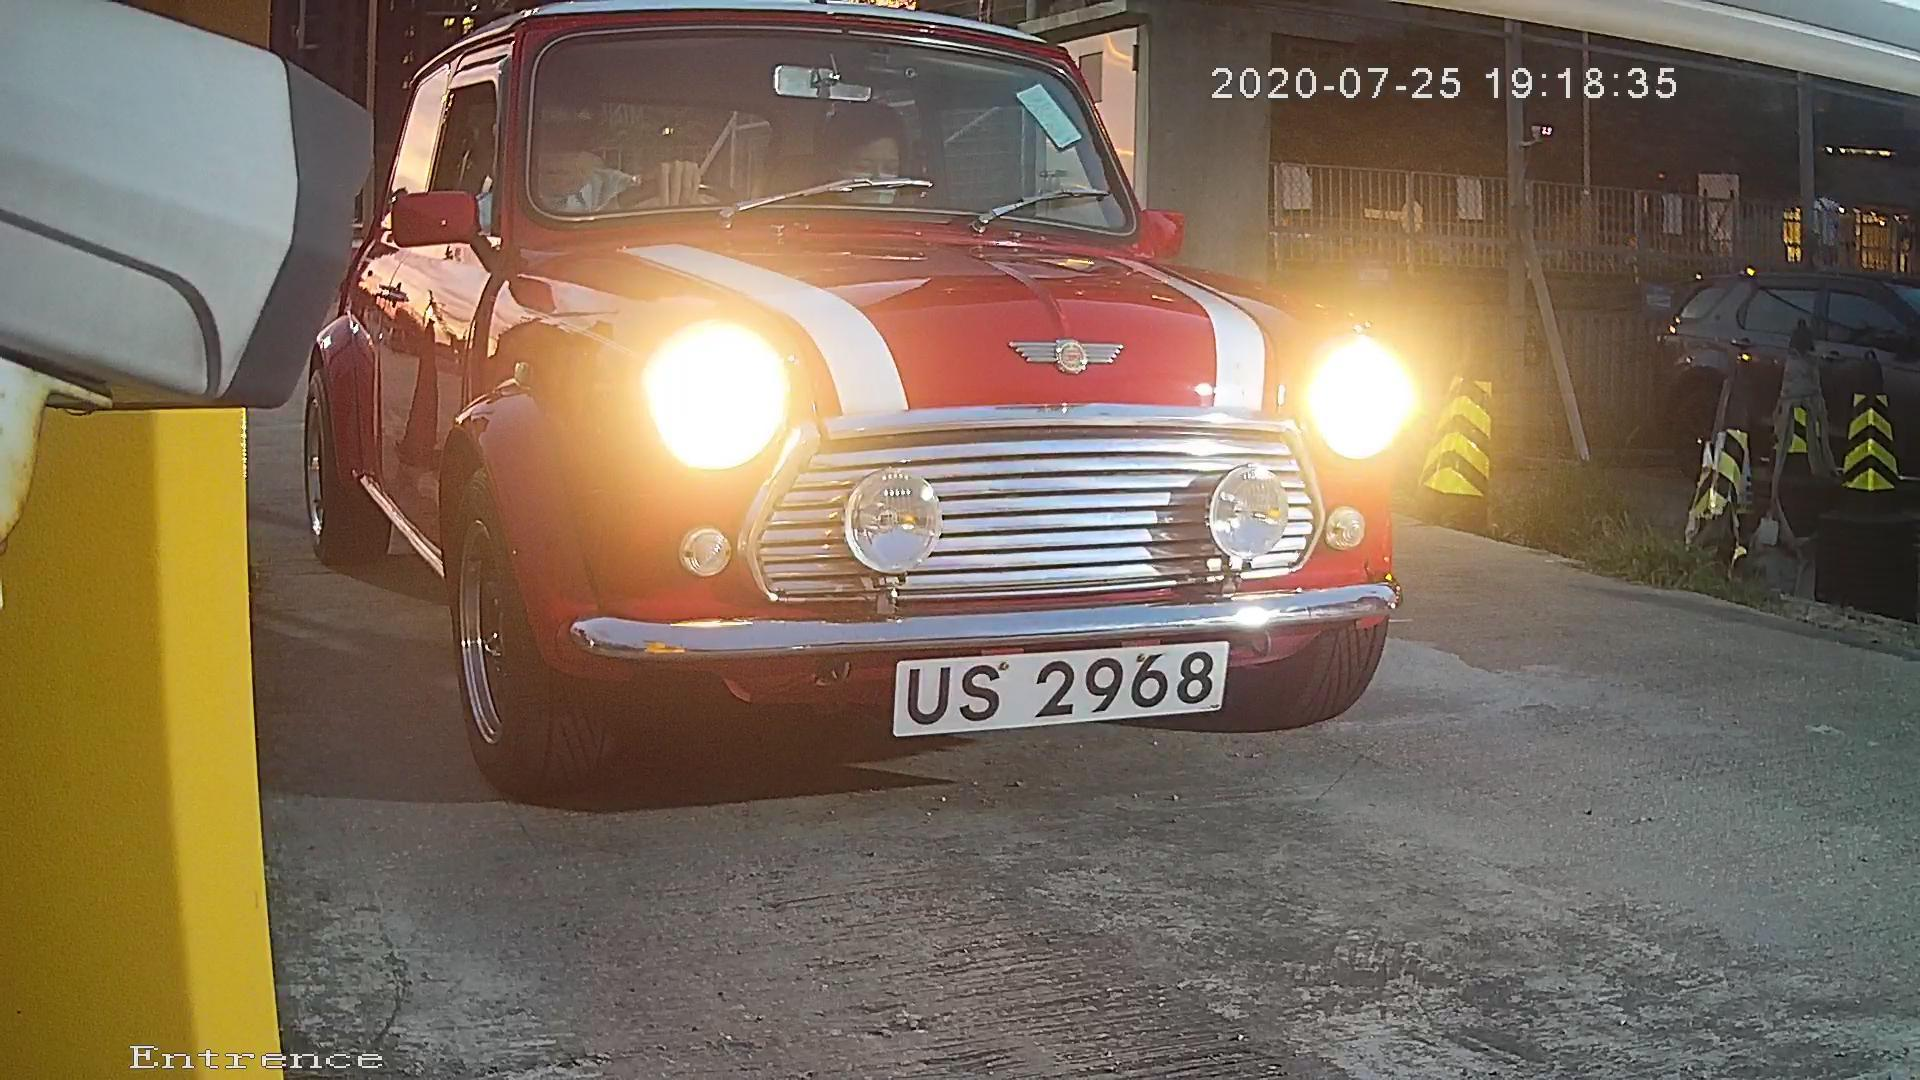privatecar: (291, 1, 1458, 773)
